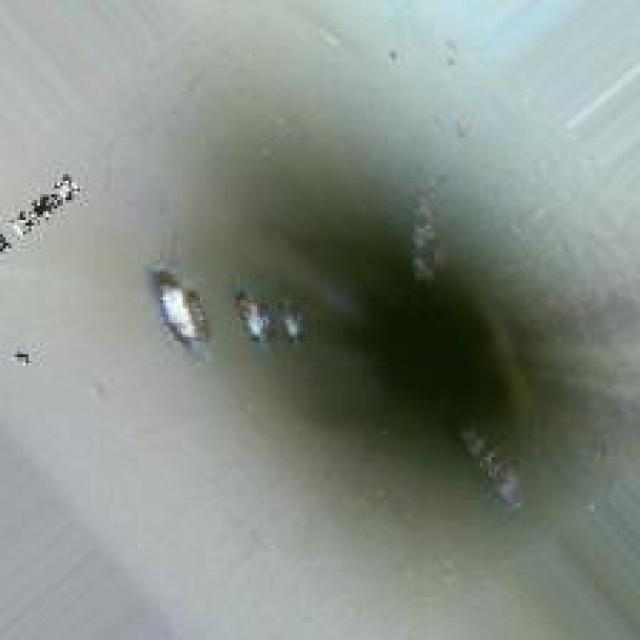ferrule: (154, 266, 214, 346), (237, 291, 269, 340), (277, 300, 306, 337)
